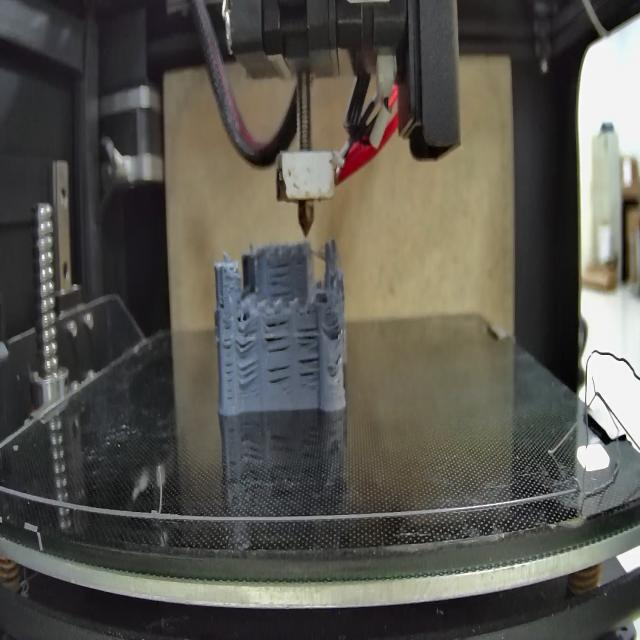cracks: (298, 323, 320, 388), (267, 255, 295, 300), (222, 326, 234, 404), (265, 319, 291, 354), (236, 318, 254, 357), (266, 360, 292, 385), (327, 312, 343, 339), (240, 363, 258, 386), (334, 347, 343, 372), (222, 298, 230, 318)
